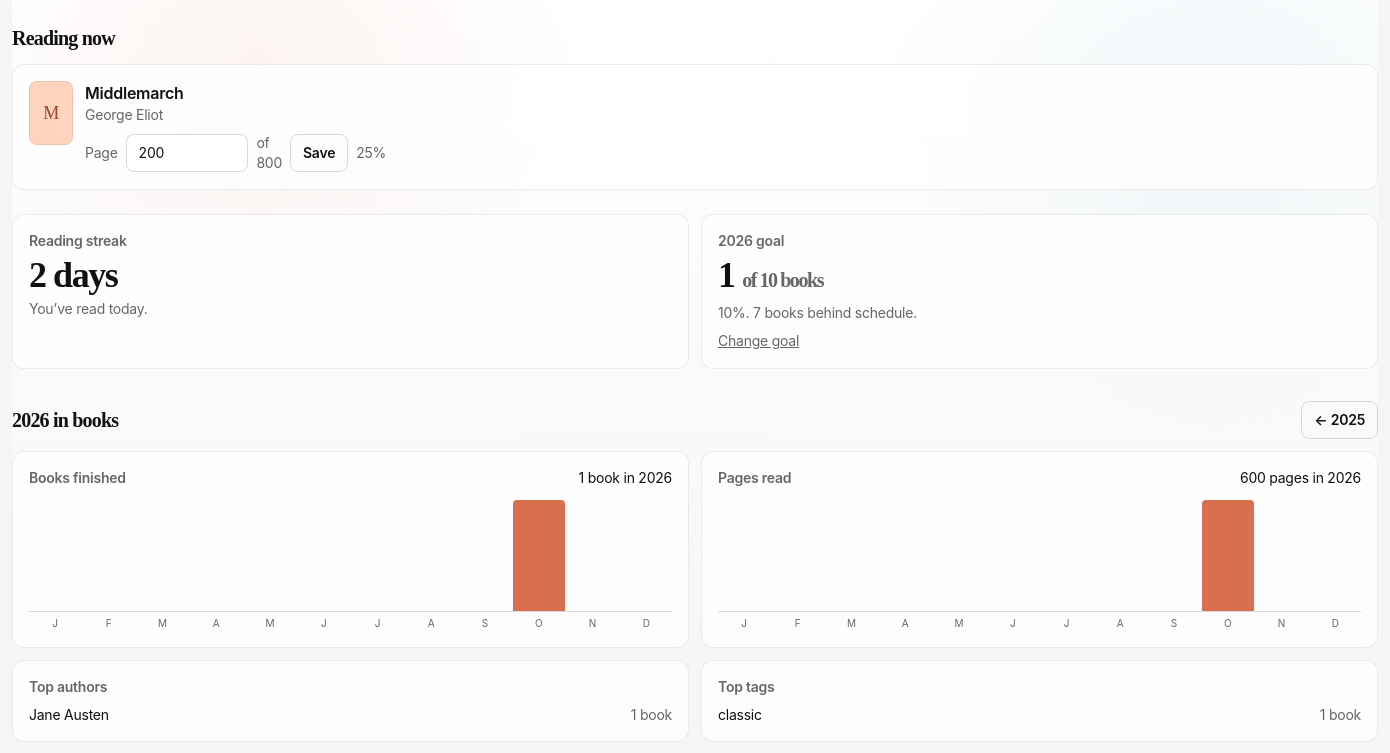
Test: Progress page › shows reading books, the streak, the goal and the year’s stats from the library
The image size is (1390, 753).
expect the text "Middlemarch" is shown: met, box left=85, top=83, right=184, bottom=103
expect the text "2 days" is shown: met, box left=29, top=255, right=117, bottom=295
Note: Saving a new page updates the bar's percent.
Replace the text in the number field with "400" at x=187, y=153, box left=126, top=134, right=248, bottom=172
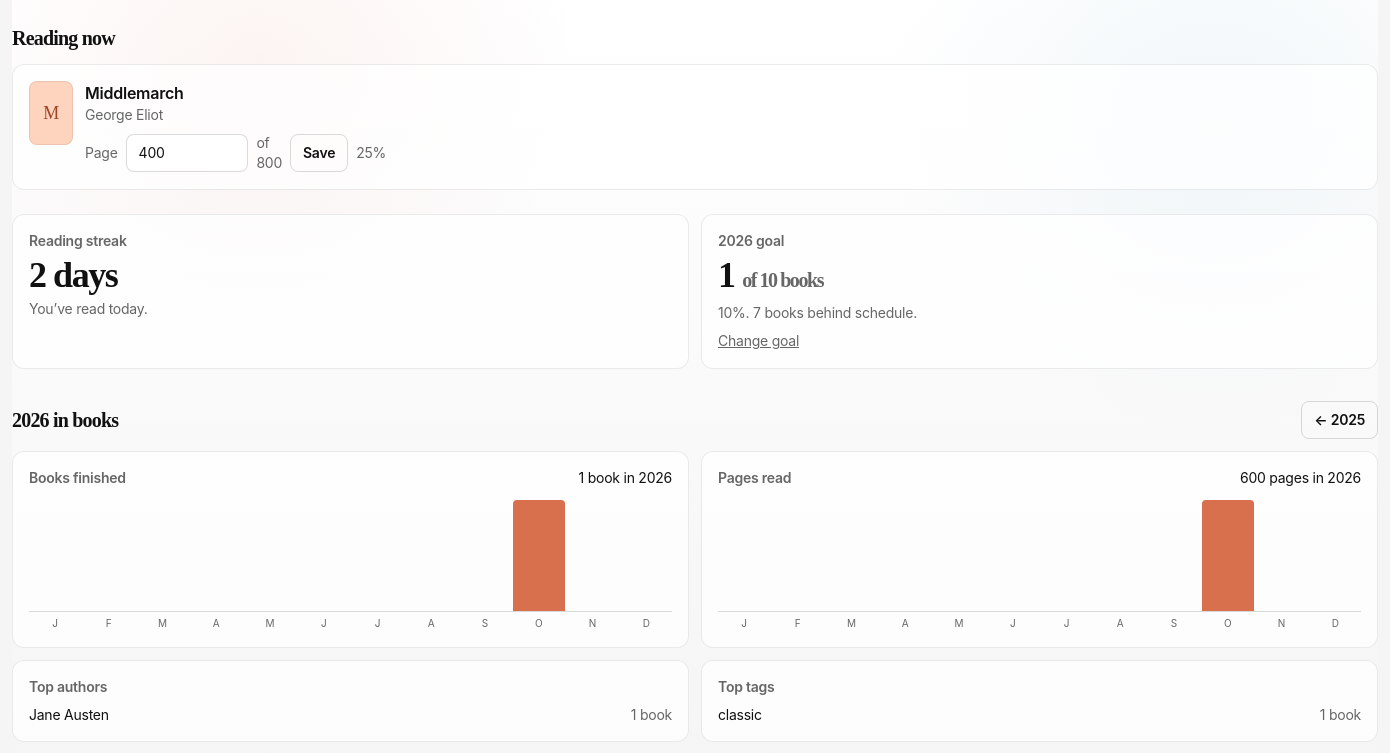
Click the button "Save" at x=319, y=153, box left=290, top=134, right=348, bottom=172
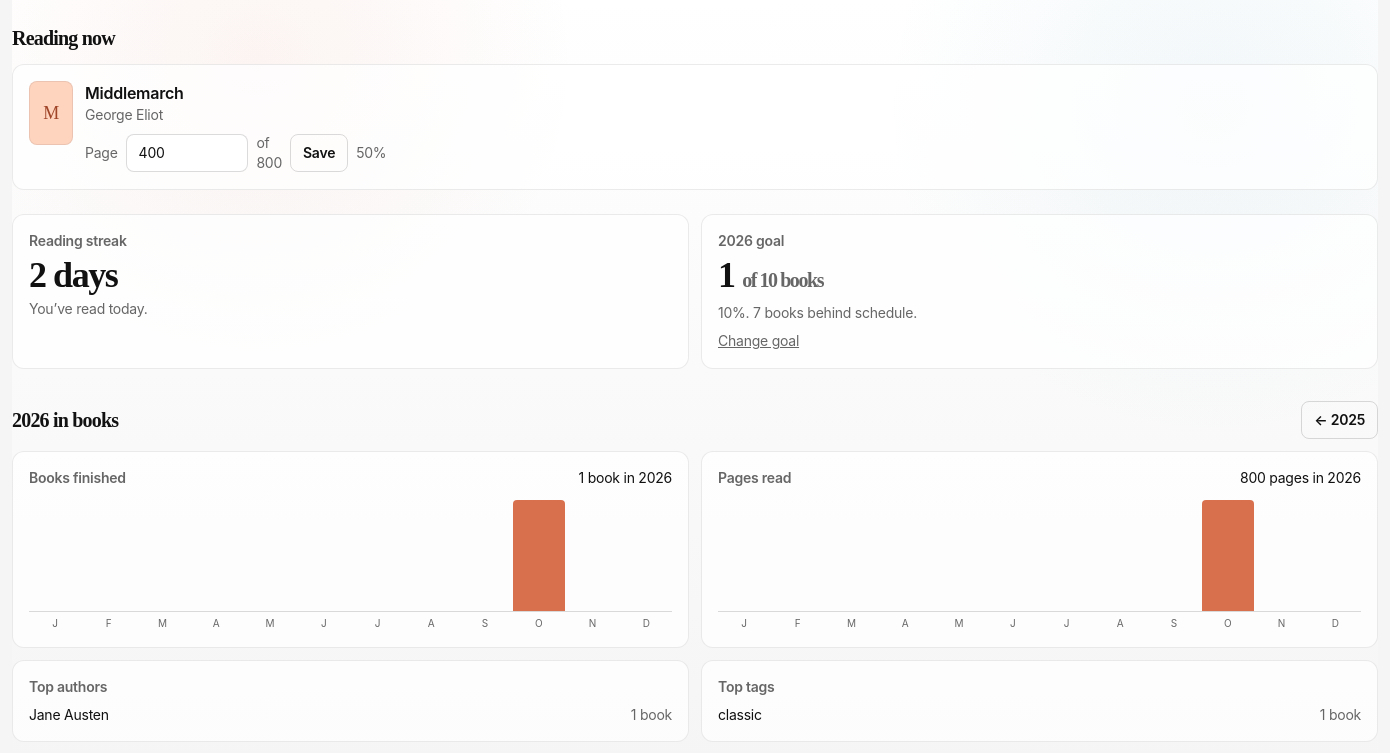
expect the text "50%" is shown: met, box left=356, top=143, right=386, bottom=163
